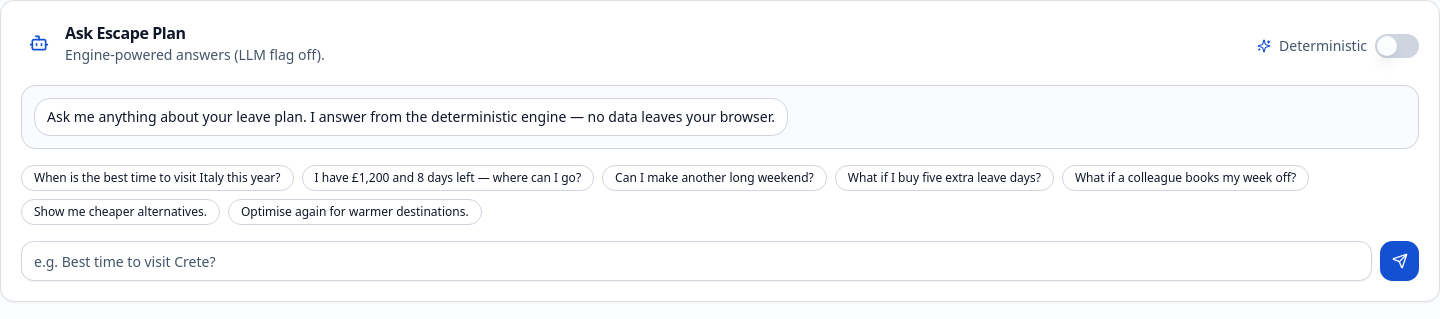
Test case: Assistant nudge › hosts the AI on/off control inside the Assistant, where its effect shows
Expected: the text "Engine-powered answers (LLM flag off)." is shown, x1=65 y1=45 x2=325 y2=65
Step 1. Click the switch named "Toggle AI rephrasing" → (1397,46), box x1=1375 y1=34 x2=1419 y2=58
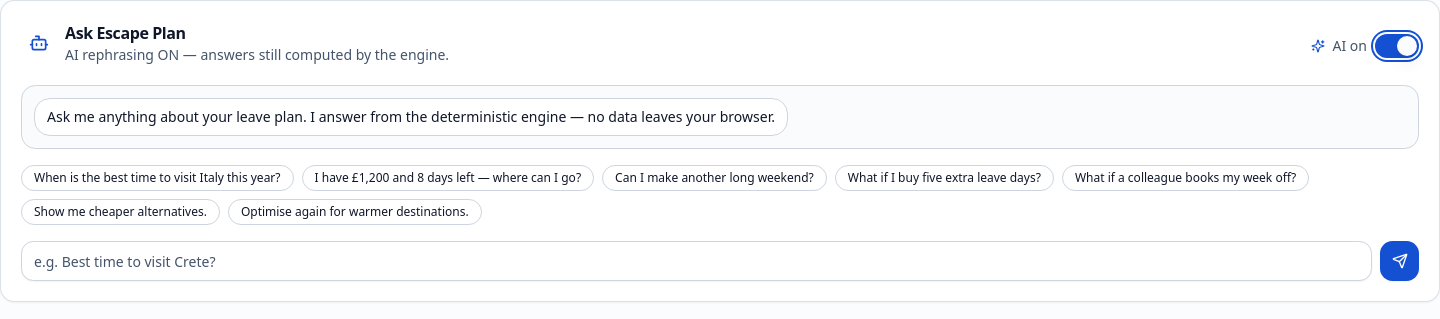
Expected: the text "AI rephrasing ON — answers still computed by the engine." is shown, x1=65 y1=45 x2=449 y2=65
